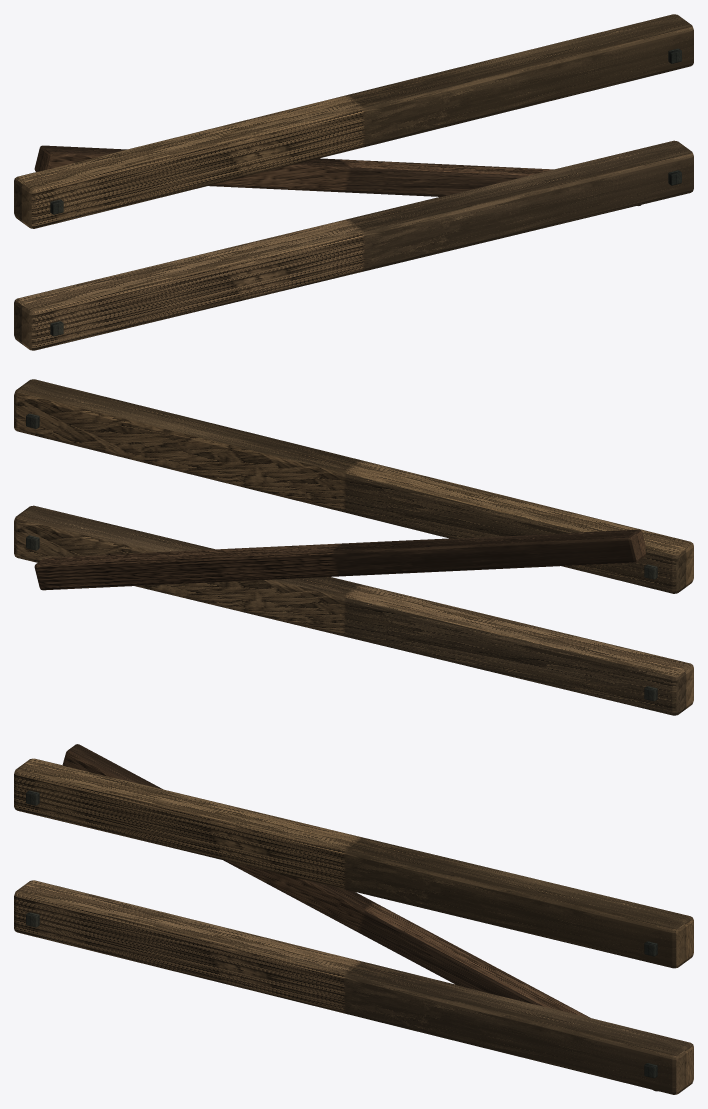
The model's file is fence_bay_b.glb.
The picture shows the model from 3 angles, top to bottom: view 1: azimuth 30°, elevation 25°; view 2: azimuth 150°, elevation 25°; view 3: azimuth 330°, elevation 25°; orthographic projection.
Parts seen in each view (by area): view 1: fence_bay_b; view 2: fence_bay_b; view 3: fence_bay_b.
Boxes of the visible parts, x1=… form: fence_bay_b: x1=14, y1=14, x2=693, y2=350; fence_bay_b: x1=14, y1=379, x2=693, y2=715; fence_bay_b: x1=14, y1=744, x2=693, y2=1094.
Size of the model in its own units: 2 by 0.5674 by 0.171.
Materials: 3 (3 with a texture image).
